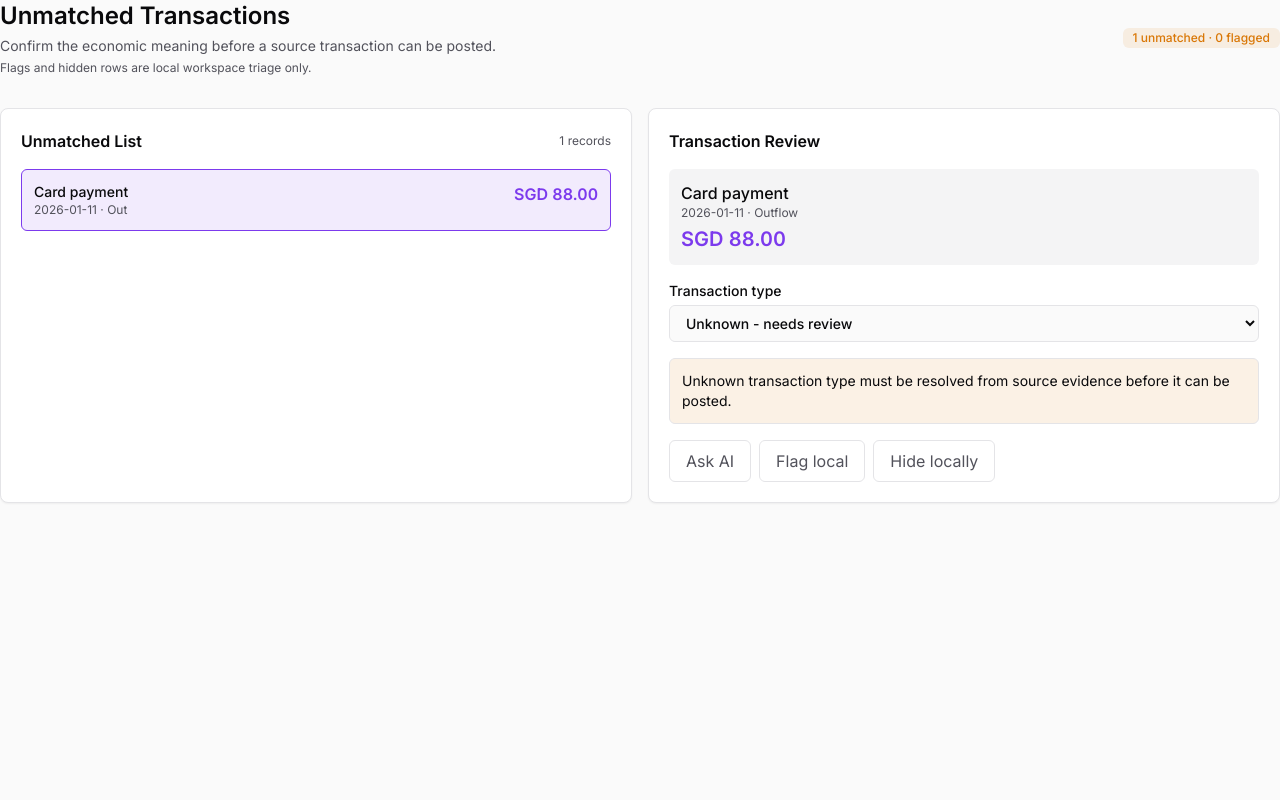
Test: UnmatchedBoard › Flow 13: allows creating a new counter account on the fly even when candidate accounts already exist
Select "Expense" in the dropdown labelled "Transaction type": [964, 324] box [669,305,1259,342]
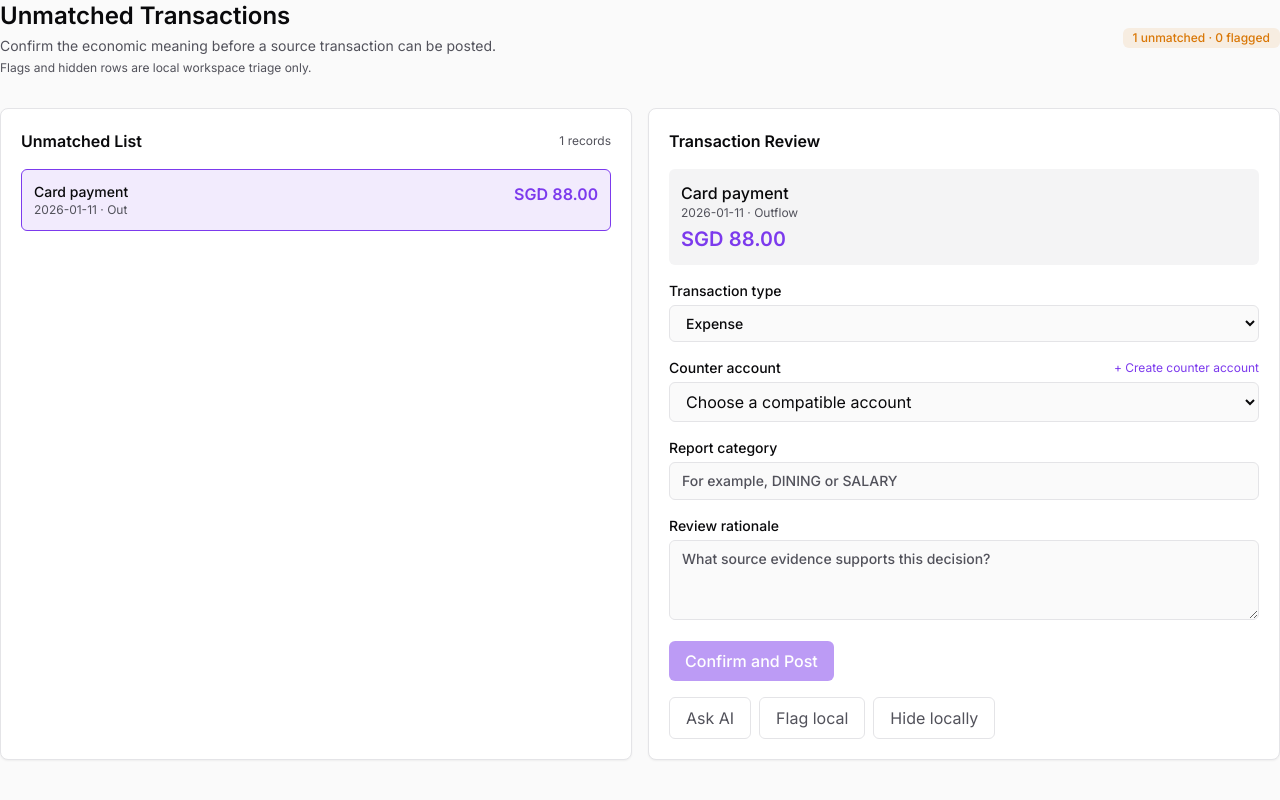
Note: Trigger on-the-fly creation via the always-accessible button
Click the button "+ Create counter account": [1186, 368] box [1114,360,1259,376]
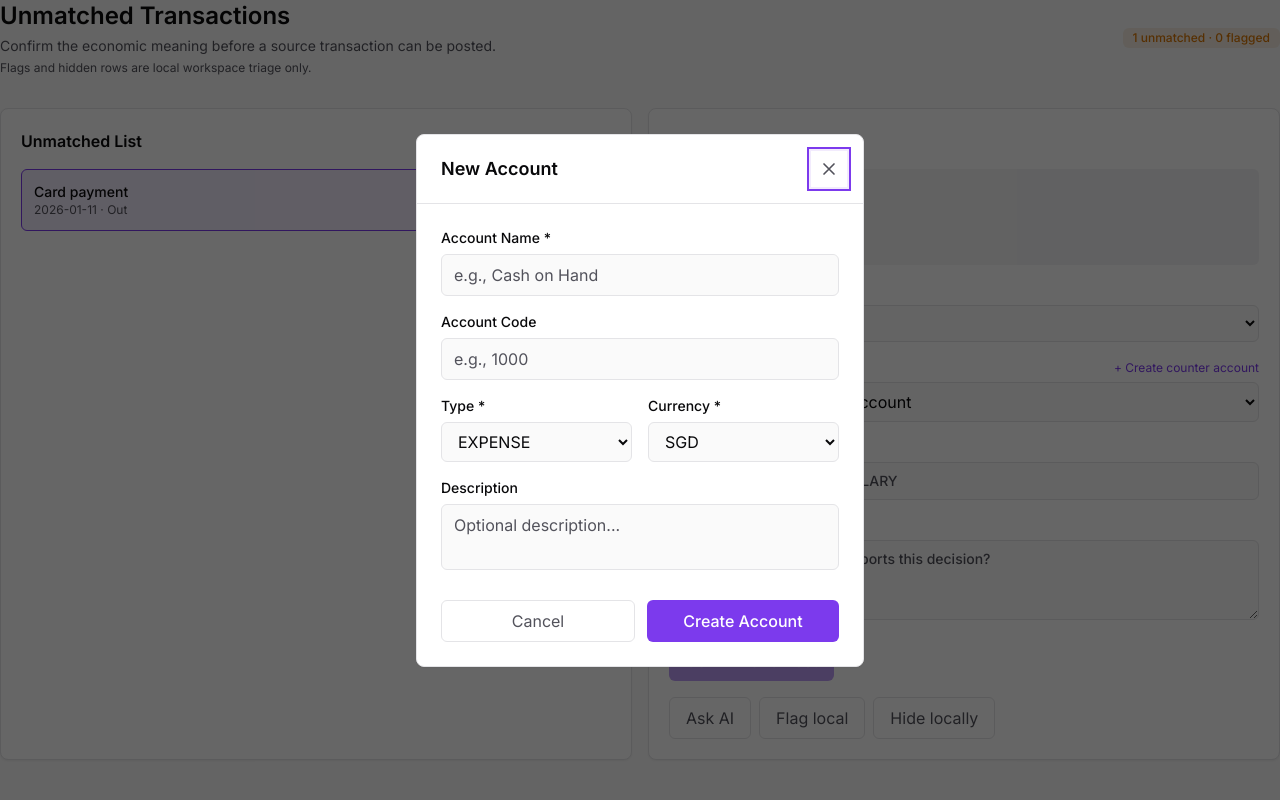
expect the dropdown labelled "Type *" shows "EXPENSE": met, box [441,422,632,462]
In the field with placeholder "e.g., Cash on Hand": [640, 274] box [441,254,839,296], type "Expense - Utilities"
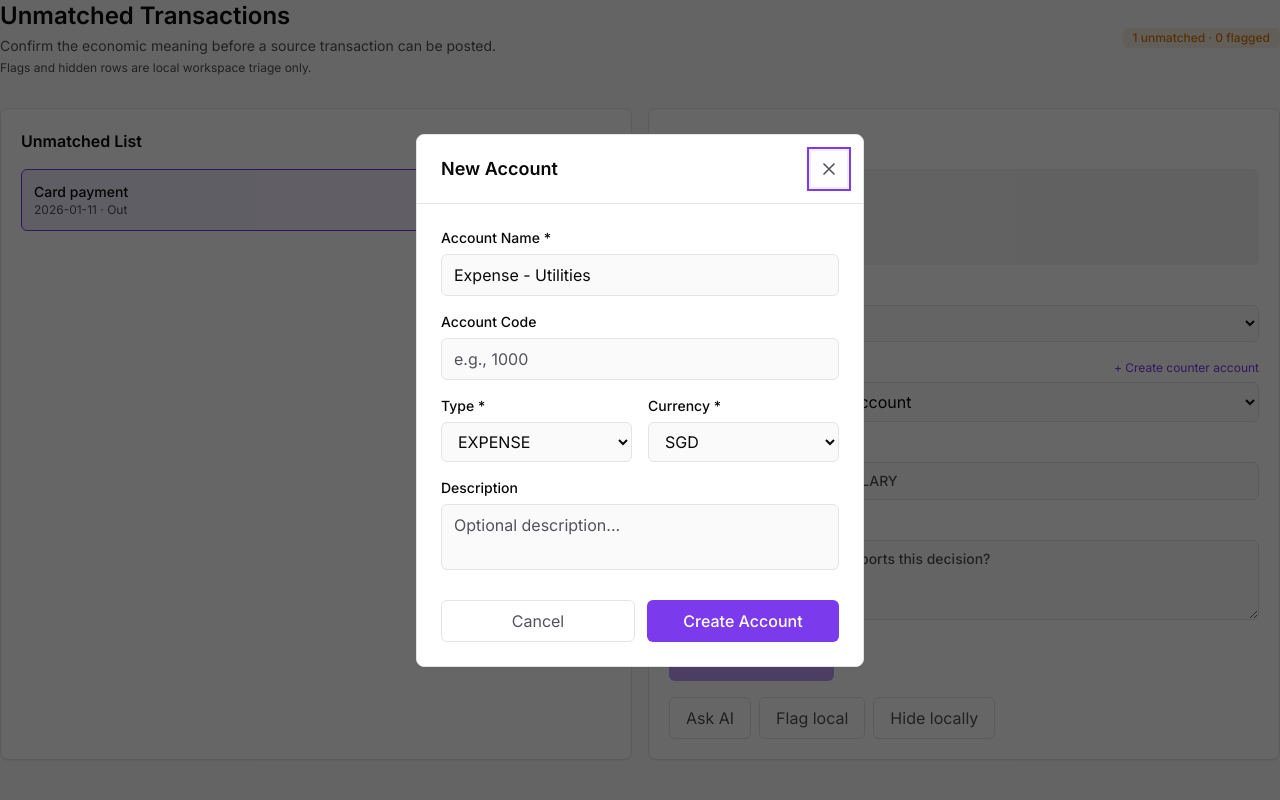
Click the button "Create Account": [743, 620] box [647,600,839,642]
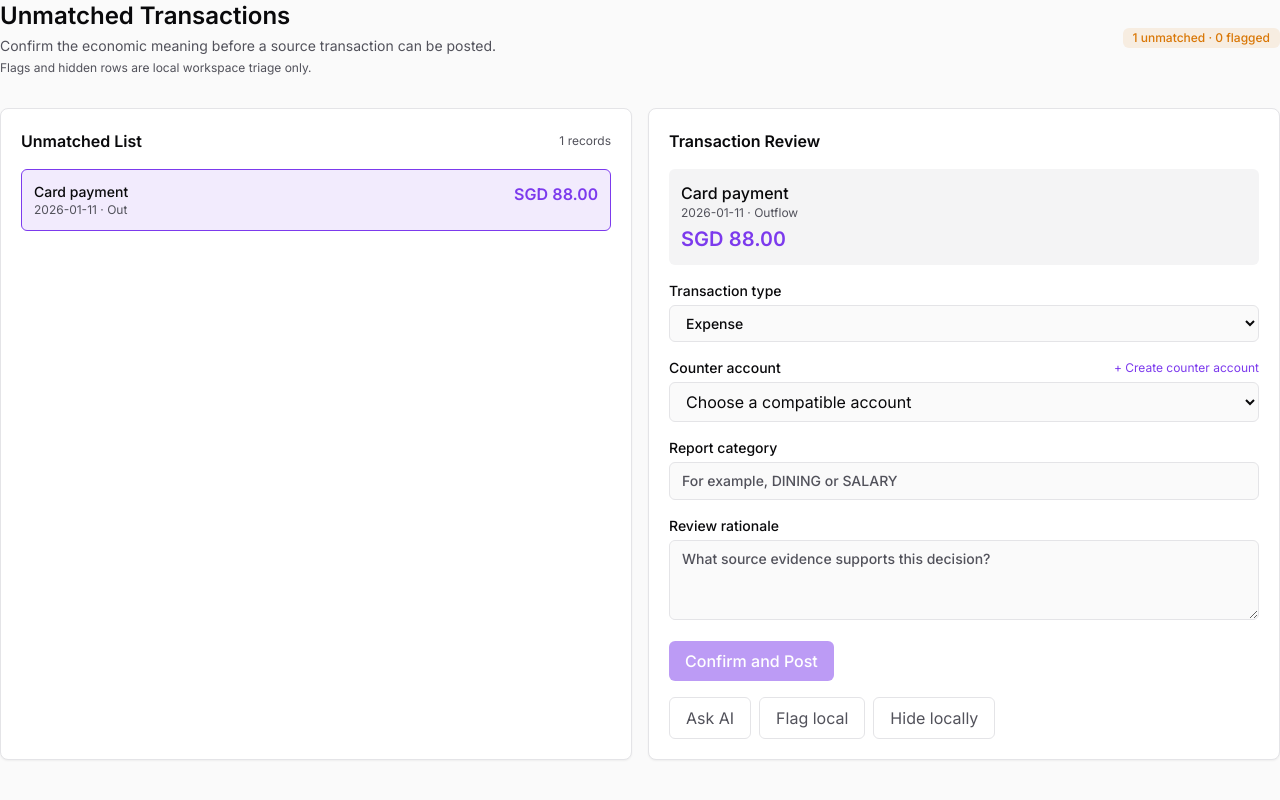
expect the dialog is gone: met
